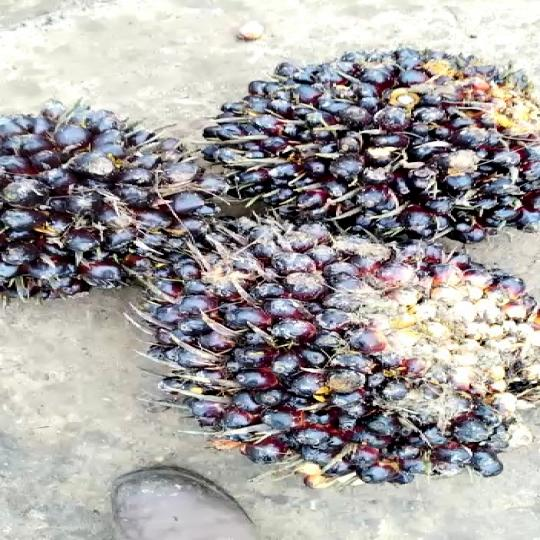mentah: (166, 226, 540, 494), (191, 43, 540, 246), (0, 100, 213, 306)
